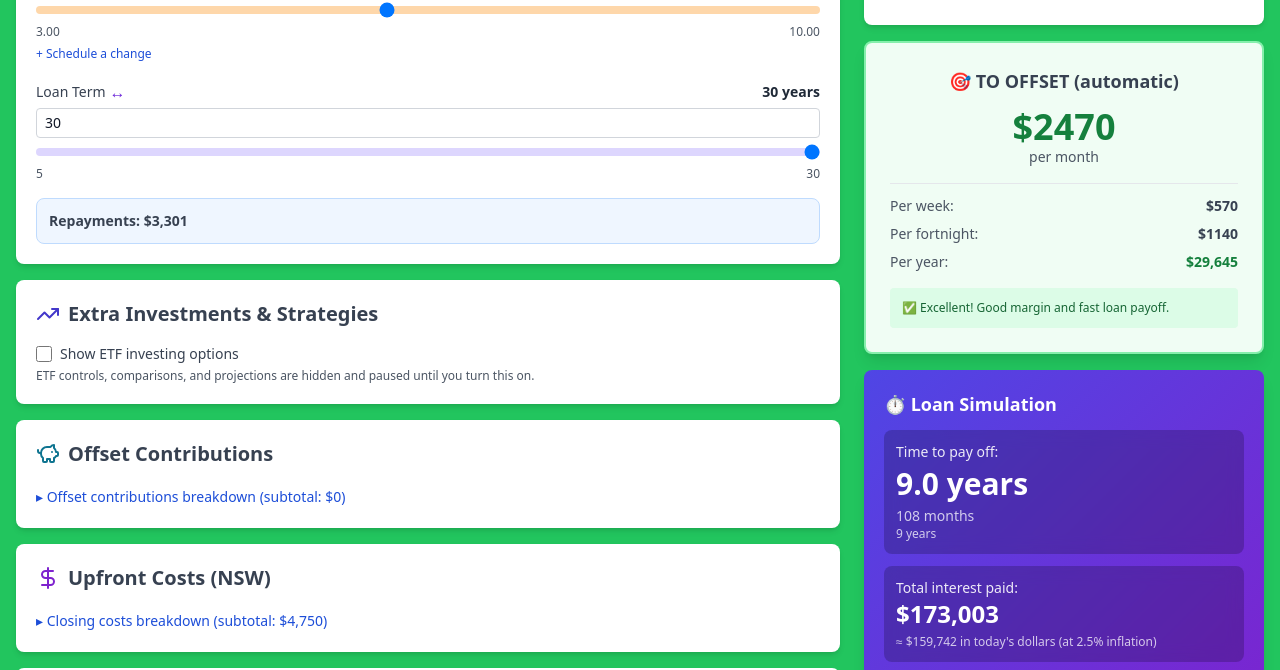
it: The Strategy Comparison table marks a finished strategy (TODO-168) › marks a strategy that paid off, next to its real (still-growing) figure
This screenshot has width=1280, height=670.
(page scrolled)
Click the checkbox labelled "Show ETF investing options" at (44, 354), box [36,346,52,362]
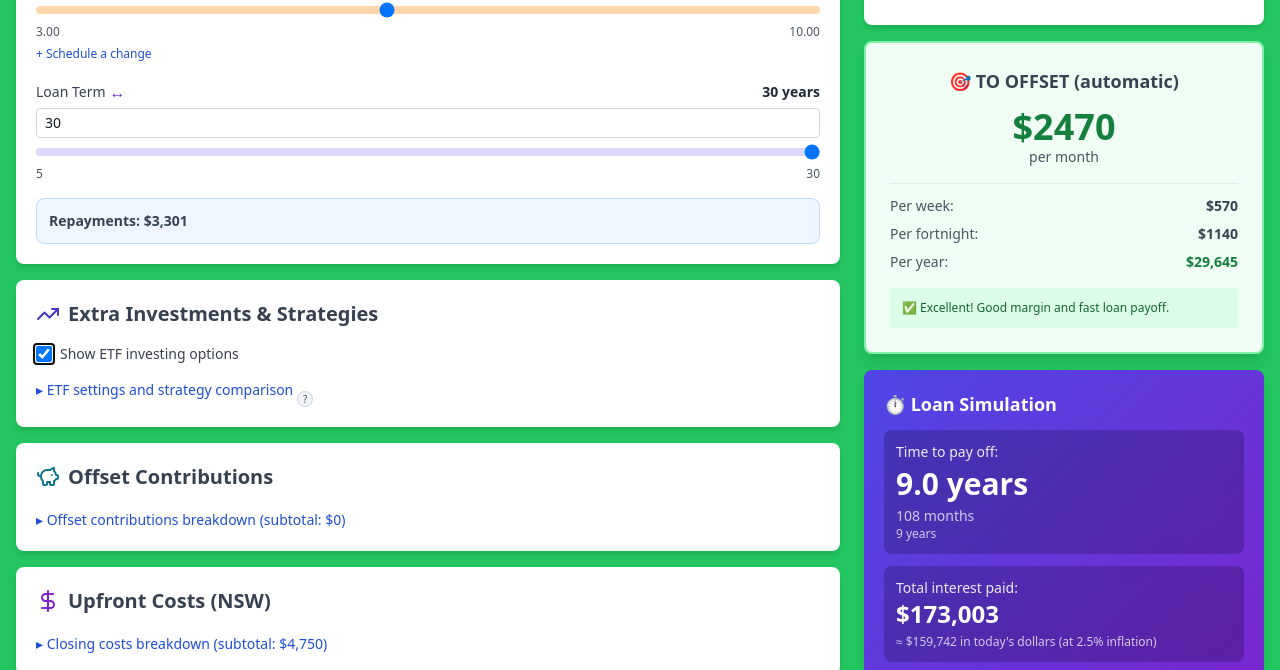
Click the button "▸ ETF settings and strategy comparison" at (165, 390), box [36,380,293,400]
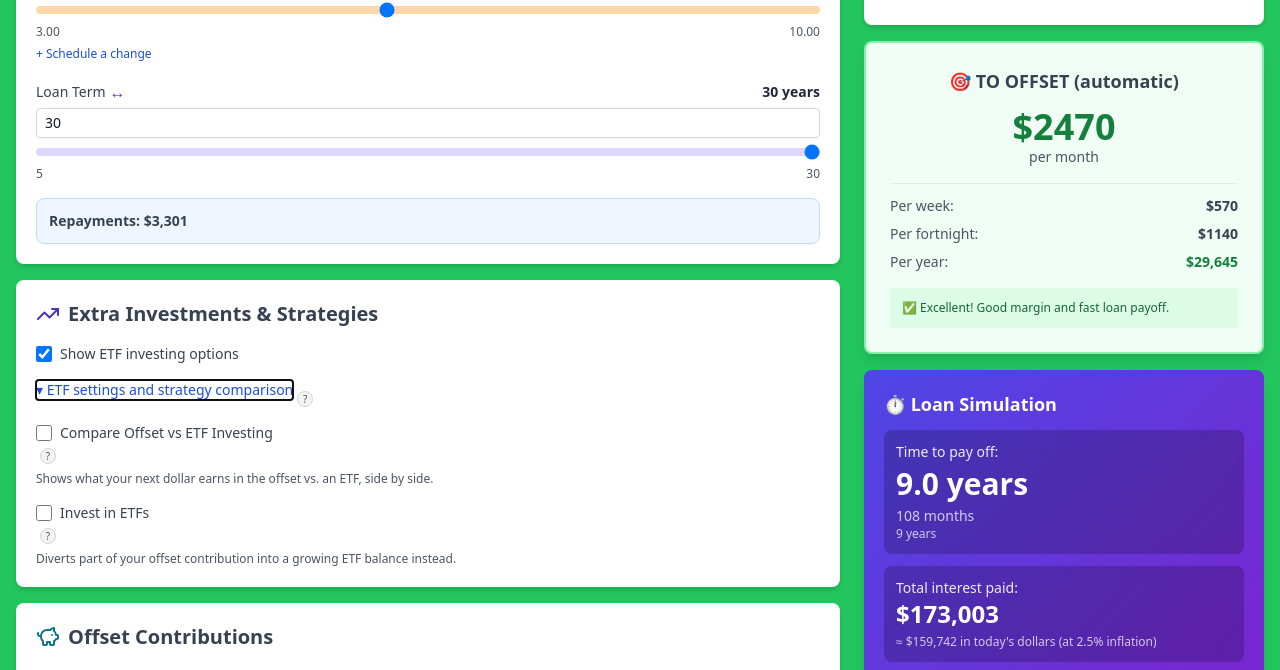
Click the checkbox labelled "Invest in ETFs" at (44, 512), box [36,504,52,520]
(page scrolled)
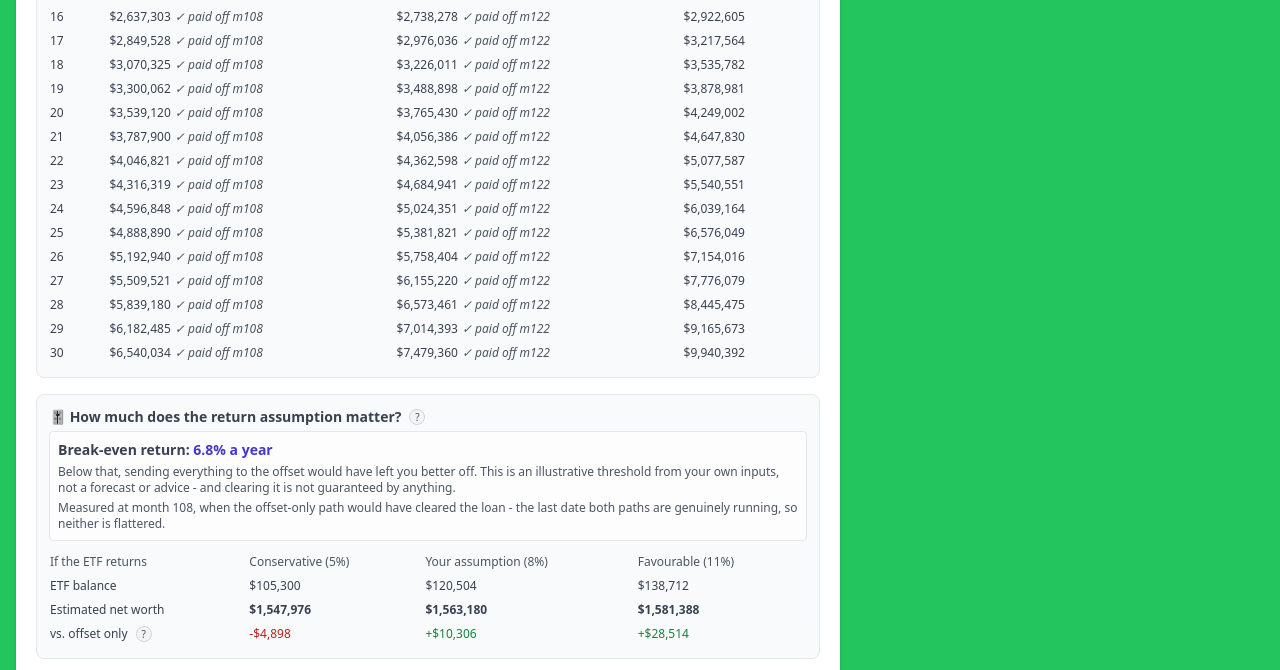
expect the text "$2,637,303✓ paid off m108" is shown: met, box [108,5,396,29]
expect the text "$2,738,278✓ paid off m122" is shown: met, box [396,5,682,29]
expect the text "$2,849,528✓ paid off m108" is shown: met, box [108,29,396,53]
